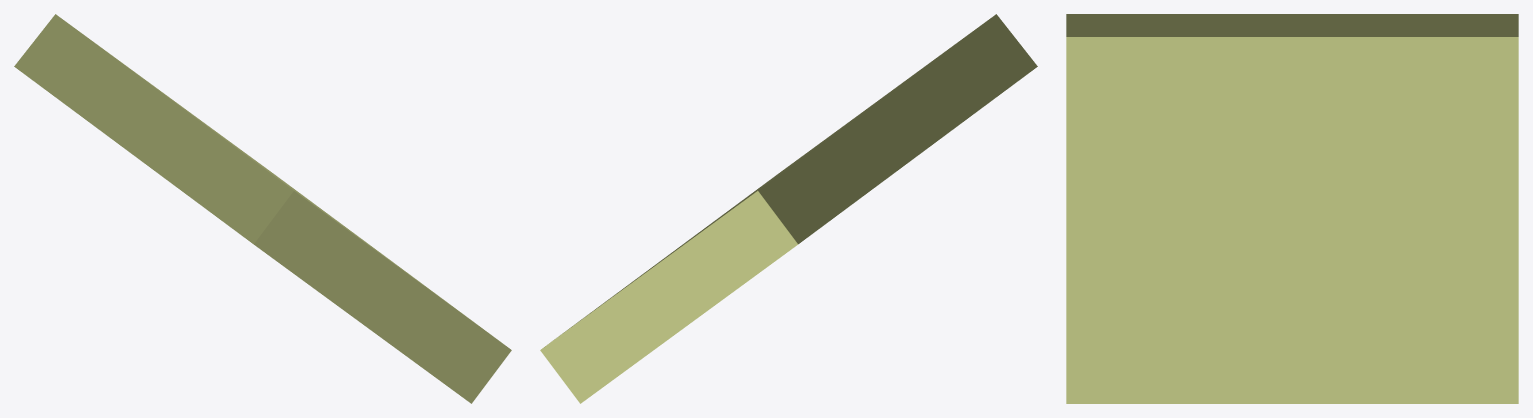
3 views of the same model, side by side, from view 1: azimuth 30°, elevation 25°; view 2: azimuth 150°, elevation 25°; view 3: azimuth 270°, elevation 25° (orthographic). The views are drawn at different scales.
Visible parts, largest first — view 1: 0_1_3_2_2_2_2_2_2_0_2; view 2: 0_1_3_2_2_2_2_2_2_0_2; view 3: 0_1_3_2_2_2_2_2_2_0_2.
Part boxes in pixels (bbox=[...]): 0_1_3_2_2_2_2_2_2_0_2: bbox=[14, 14, 511, 403]; 0_1_3_2_2_2_2_2_2_0_2: bbox=[540, 14, 1037, 403]; 0_1_3_2_2_2_2_2_2_0_2: bbox=[1066, 14, 1518, 403].
Bounding box in the file's own units: 6.68 × 6.36 × 9.
